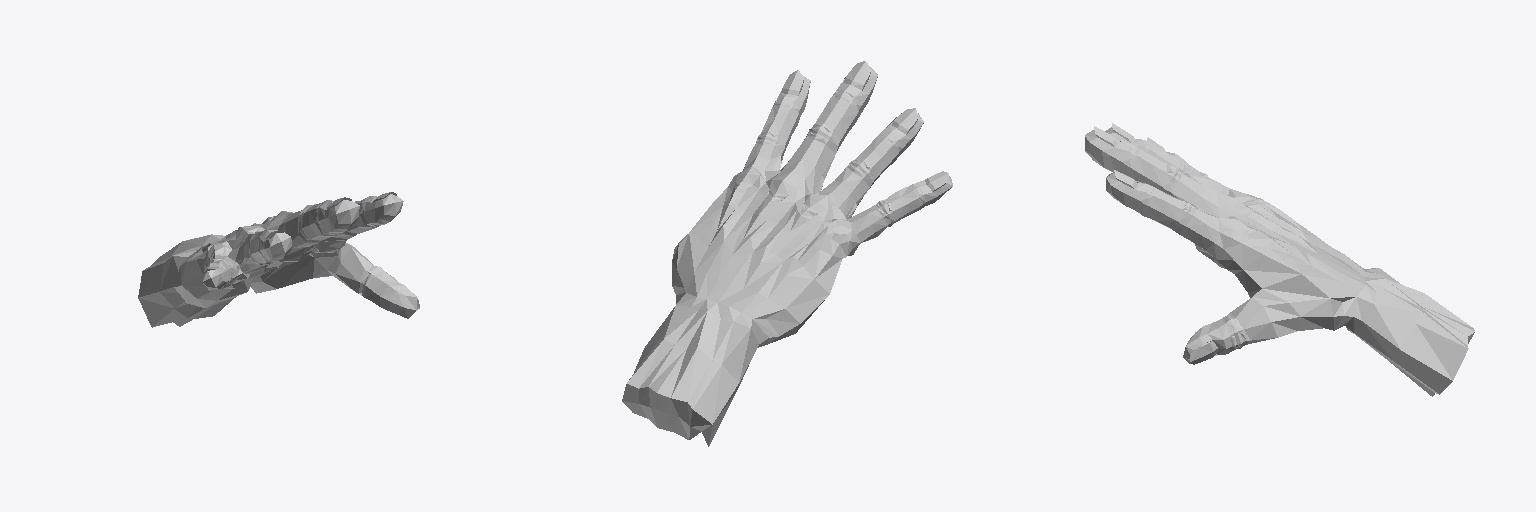
File: hand.obj
3 renders of one model, left to right at view 1: azimuth 30°, elevation 25°; view 2: azimuth 150°, elevation 25°; view 3: azimuth 270°, elevation 25°, orthographic.
Parts seen in each view (by area): view 1: fingers, hand, thumb; view 2: fingers, hand; view 3: fingers, hand, thumb.
Part boxes in pixels (left/top/right/bottom): fingers: left=187, top=192, right=403, bottom=290; hand: left=138, top=234, right=357, bottom=327; thumb: left=341, top=243, right=419, bottom=318; fingers: left=689, top=61, right=952, bottom=277; hand: left=622, top=233, right=873, bottom=446; fingers: left=1085, top=123, right=1317, bottom=287; hand: left=1235, top=224, right=1474, bottom=396; thumb: left=1183, top=289, right=1332, bottom=364.
Bounding box in the file's own units: 11.9 × 12.21 × 16.87.